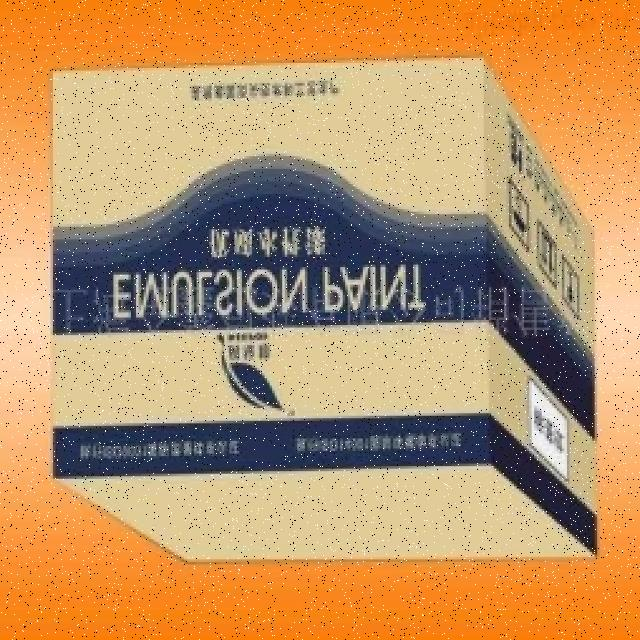box: (37, 56, 620, 573)
